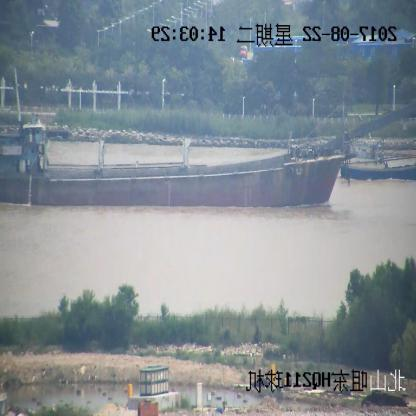Fishing Boat: (339, 140, 416, 180)
